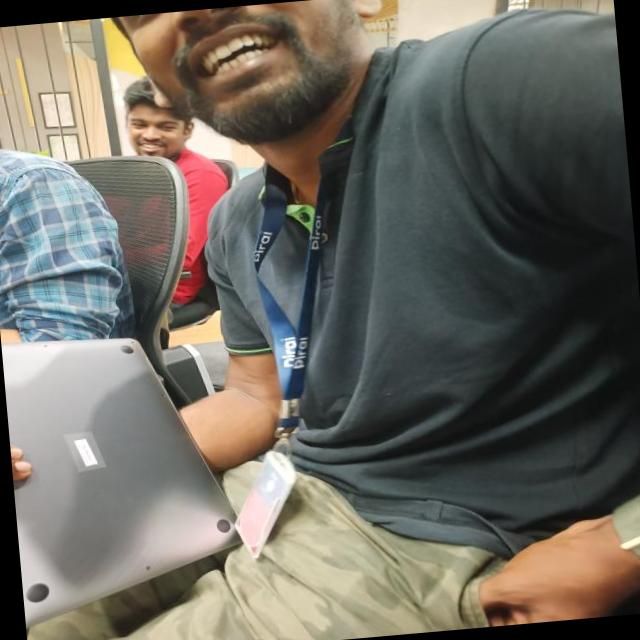id_card: (197, 130, 380, 549)
